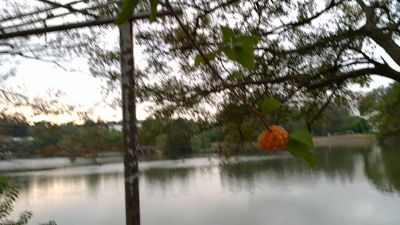eggs: (257, 125, 291, 151)
